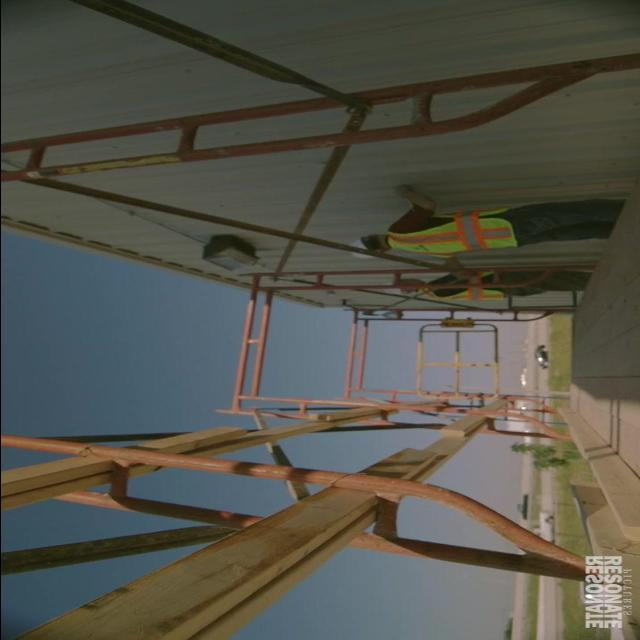helmet: (338, 230, 381, 261), (383, 277, 413, 298)
jacket: (386, 200, 518, 261), (422, 269, 499, 305)
